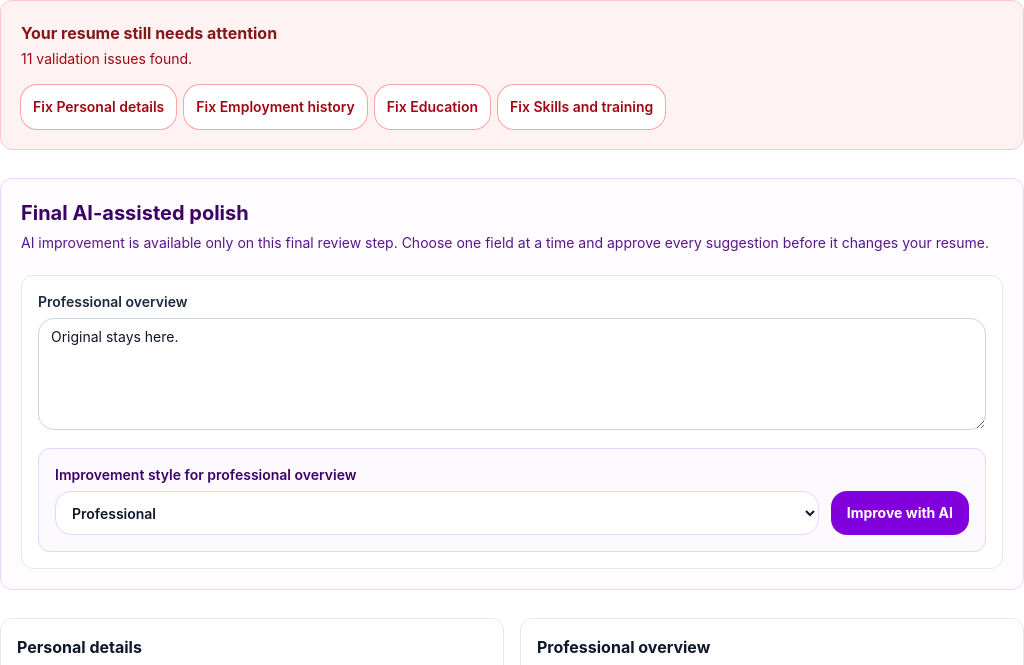
Test: controlled AI assistance › cancels an in-flight request without changing the original text
The width and height of the screenshot is (1024, 665).
Click the button with aria-label "Improve professional overview with AI" at (900, 513), box top-left (831, 491), bottom-right (969, 535)
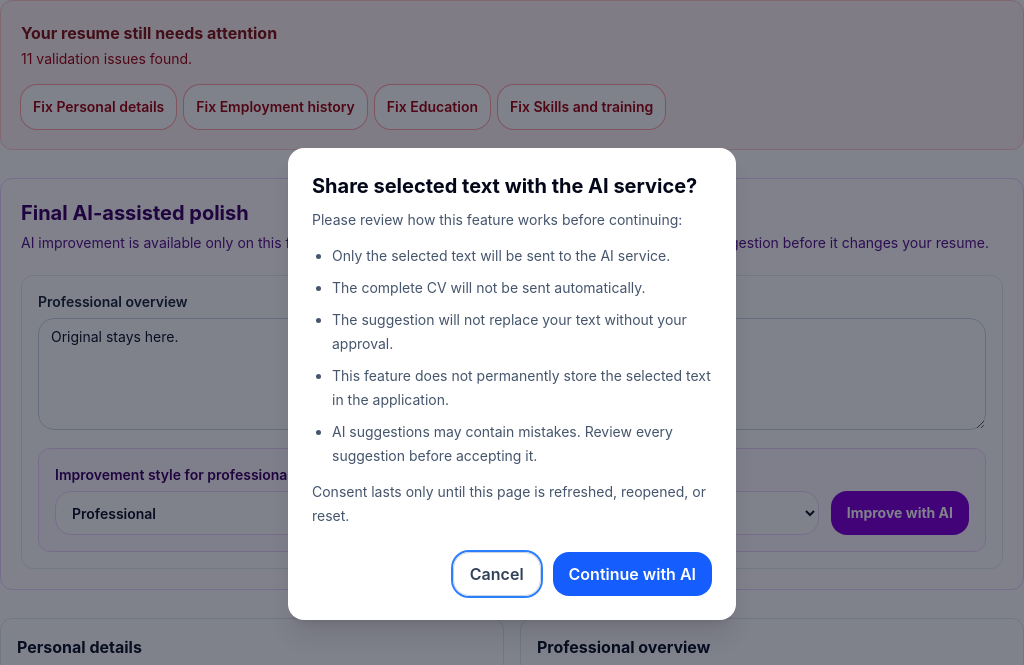
Click the button "Continue with AI" at (632, 574), box top-left (553, 552), bottom-right (712, 596)
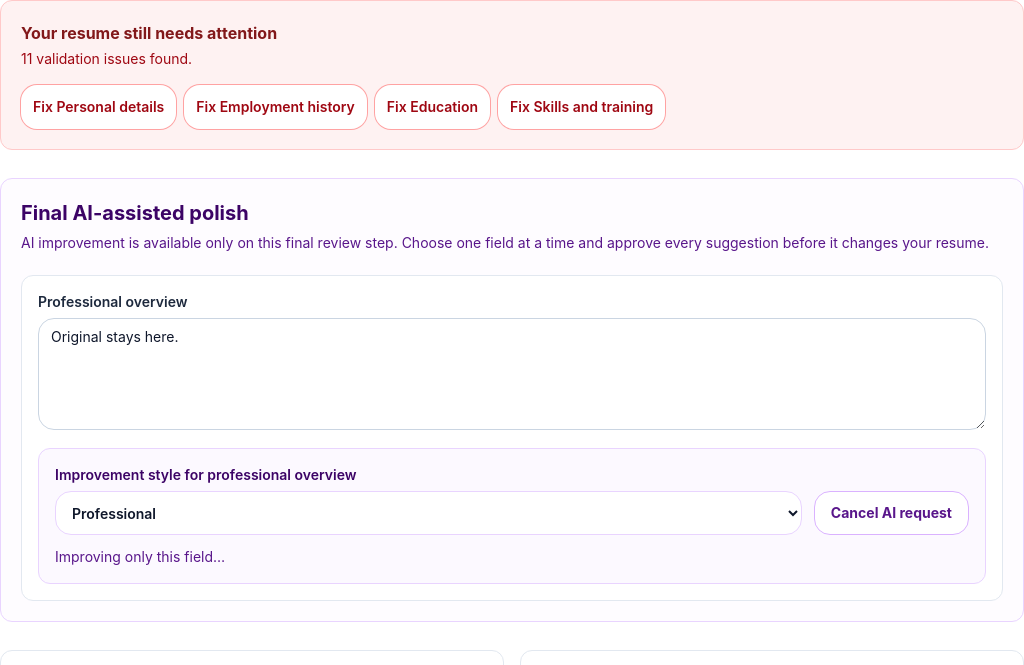
Expected: the text box labelled "Professional overview" is enabled, top-left (38, 318), bottom-right (986, 430)
Expected: the text "Improving only this field…" is shown, top-left (55, 548), bottom-right (225, 565)
Click the button "Cancel AI request" at (891, 513), box top-left (814, 491), bottom-right (969, 535)
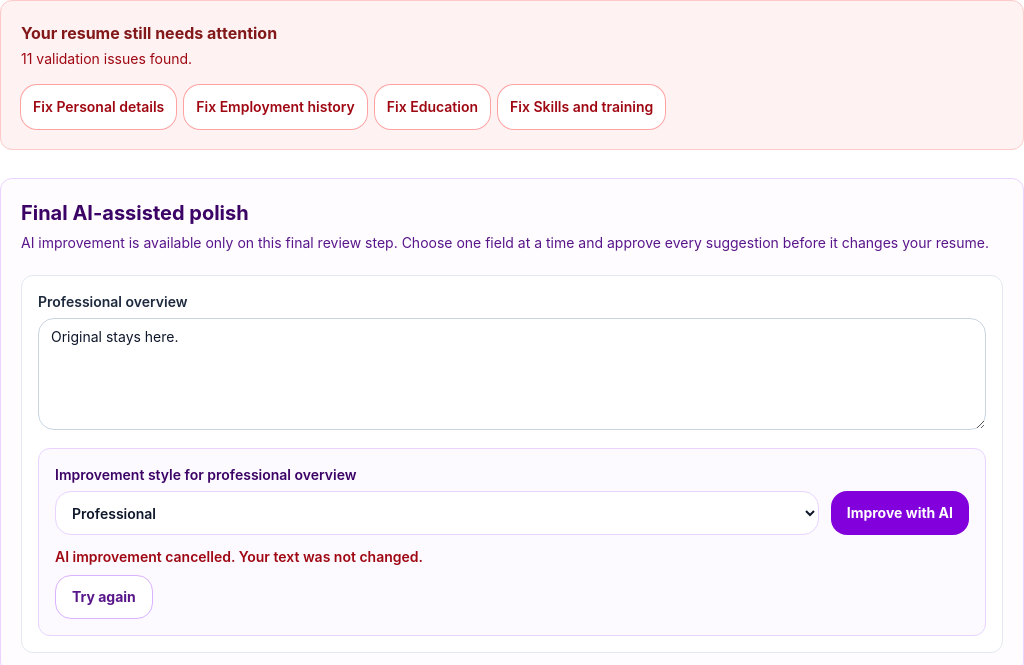
Expected: the text box labelled "Professional overview" holds "Original stays here.", top-left (38, 318), bottom-right (986, 430)
Expected: the text "AI improvement cancelled. Your text was not changed." is shown, top-left (55, 548), bottom-right (423, 565)
